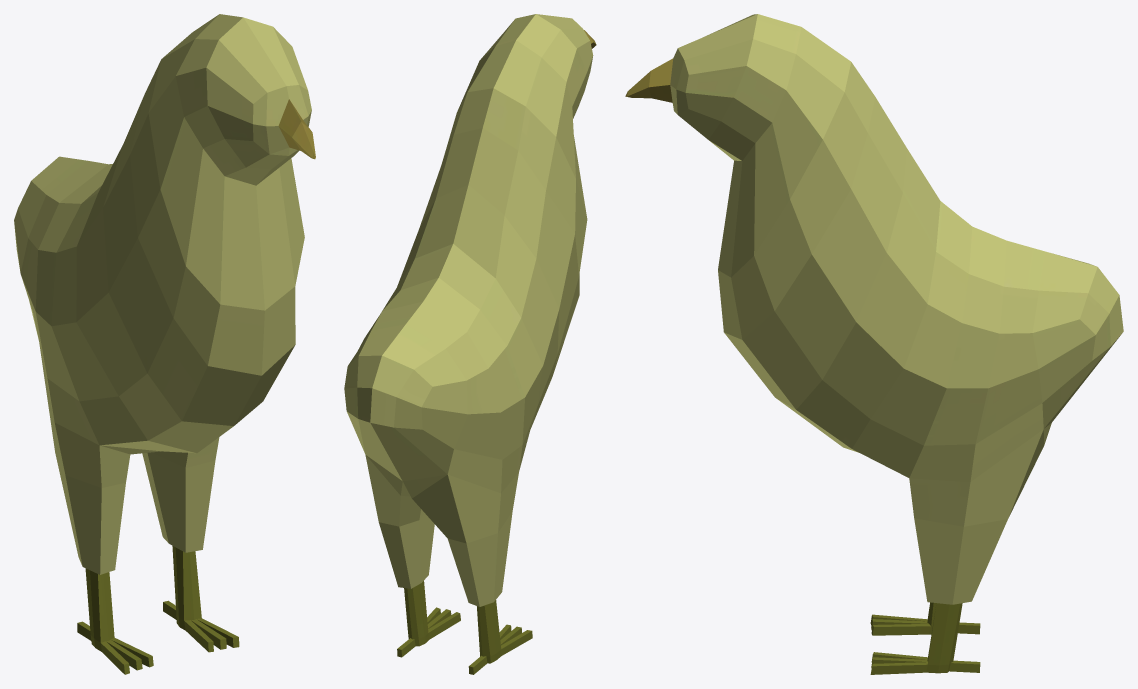
The model's file is chick.glb.
3 views of the same model, side by side, from view 1: azimuth 30°, elevation 25°; view 2: azimuth 150°, elevation 25°; view 3: azimuth 270°, elevation 25° (orthographic). The views are drawn at different scales.
Visible parts, largest first — view 1: 22smolchikenFinal; view 2: 22smolchikenFinal; view 3: 22smolchikenFinal.
Part boxes in pixels (bbox=[...]): 22smolchikenFinal: bbox=[14, 14, 315, 674]; 22smolchikenFinal: bbox=[344, 14, 596, 674]; 22smolchikenFinal: bbox=[625, 14, 1123, 674].
Bounding box in the file's own units: 0.037 × 0.1366 × 0.0967.
1 material, 1 textured.
